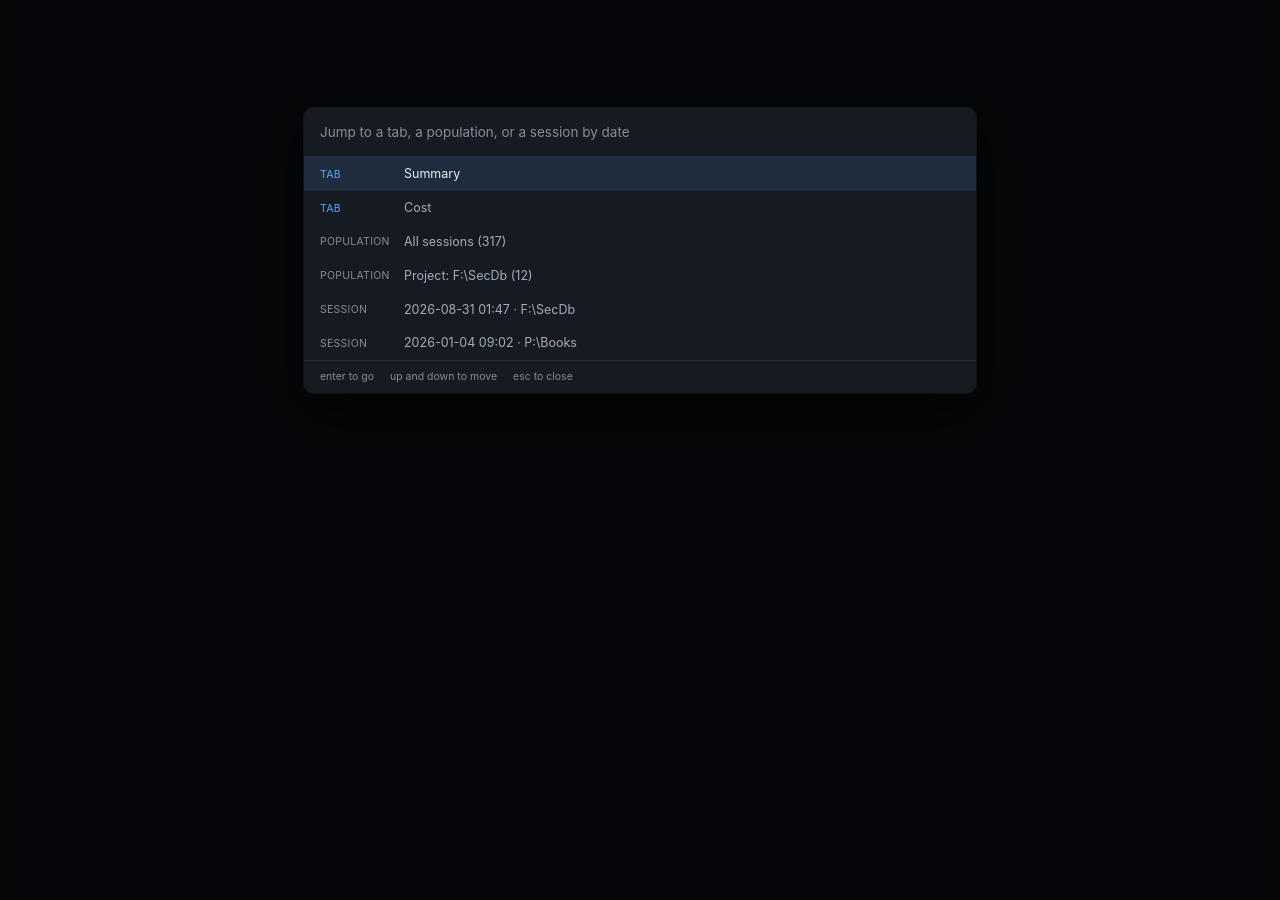
Test: the palette › finds a session by typing part of its date
This screenshot has width=1280, height=900.
Type "2026-08-31" into the field at {"x": 640, "y": 132}, box [304,108,976,156]
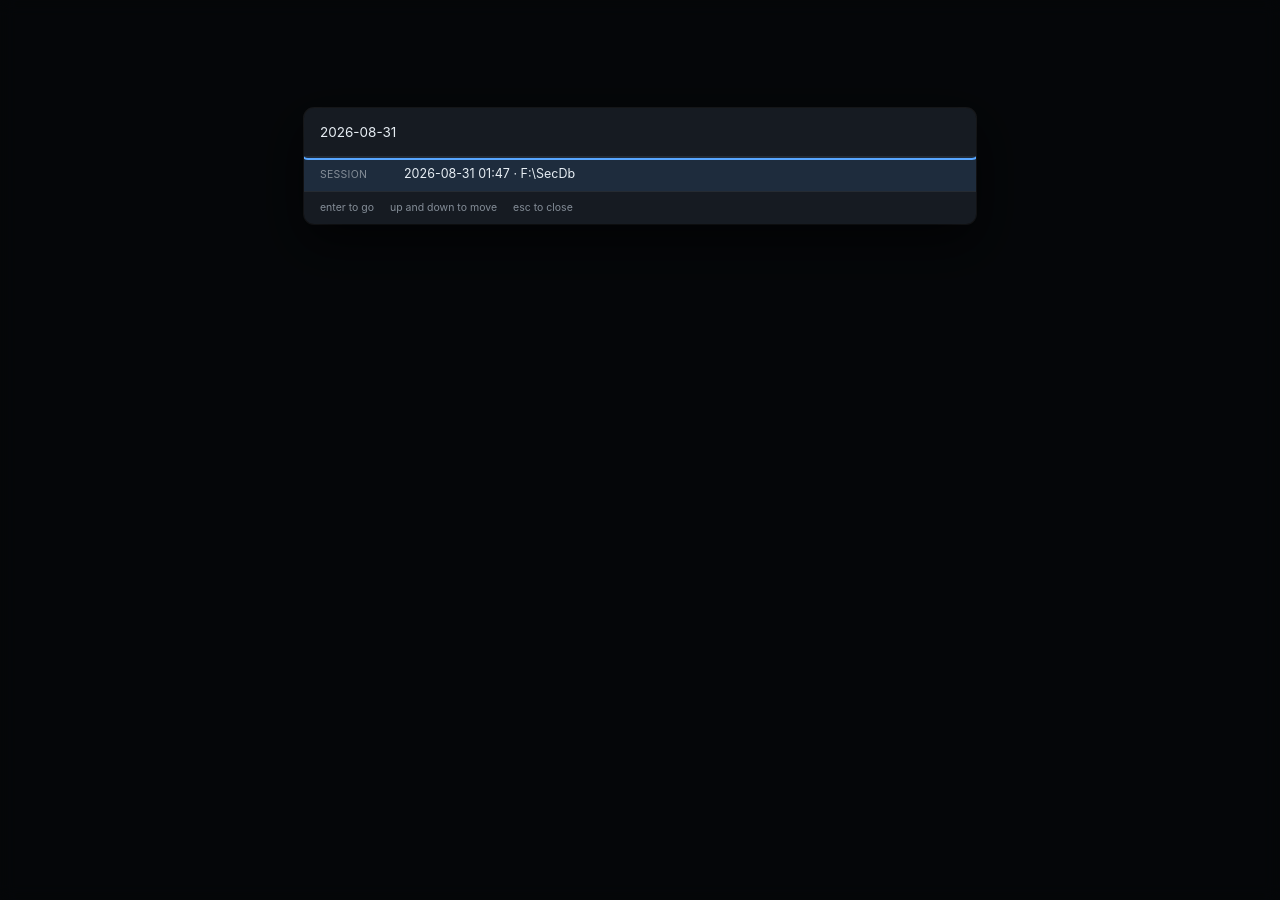
Check: the text "2026-08-31 01:47 · F:\\SecDb" is shown, box [404,165,575,183]
Check: the button "2026-01-04" is gone
